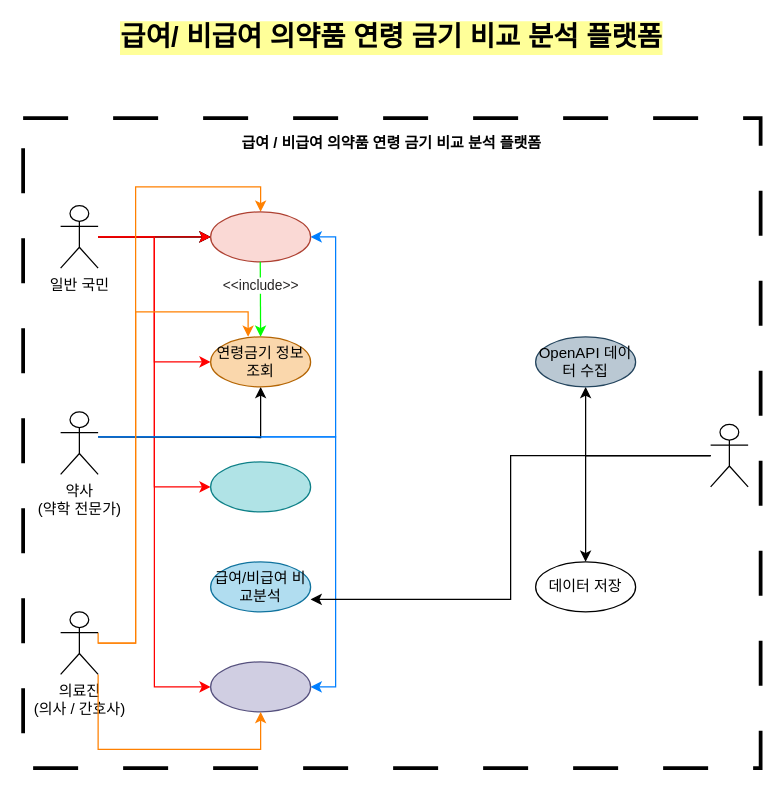
This 784x791 diagram has some shape labels left out. Here are the shapes that lost their labels. From the top down, the centre of each, then its label:
At point 260,236: "의약품 검색".
At point 728,455: "관리자".
At point 260,486: "급여/비급여 조회".
At point 260,686: "결과 시각화".
